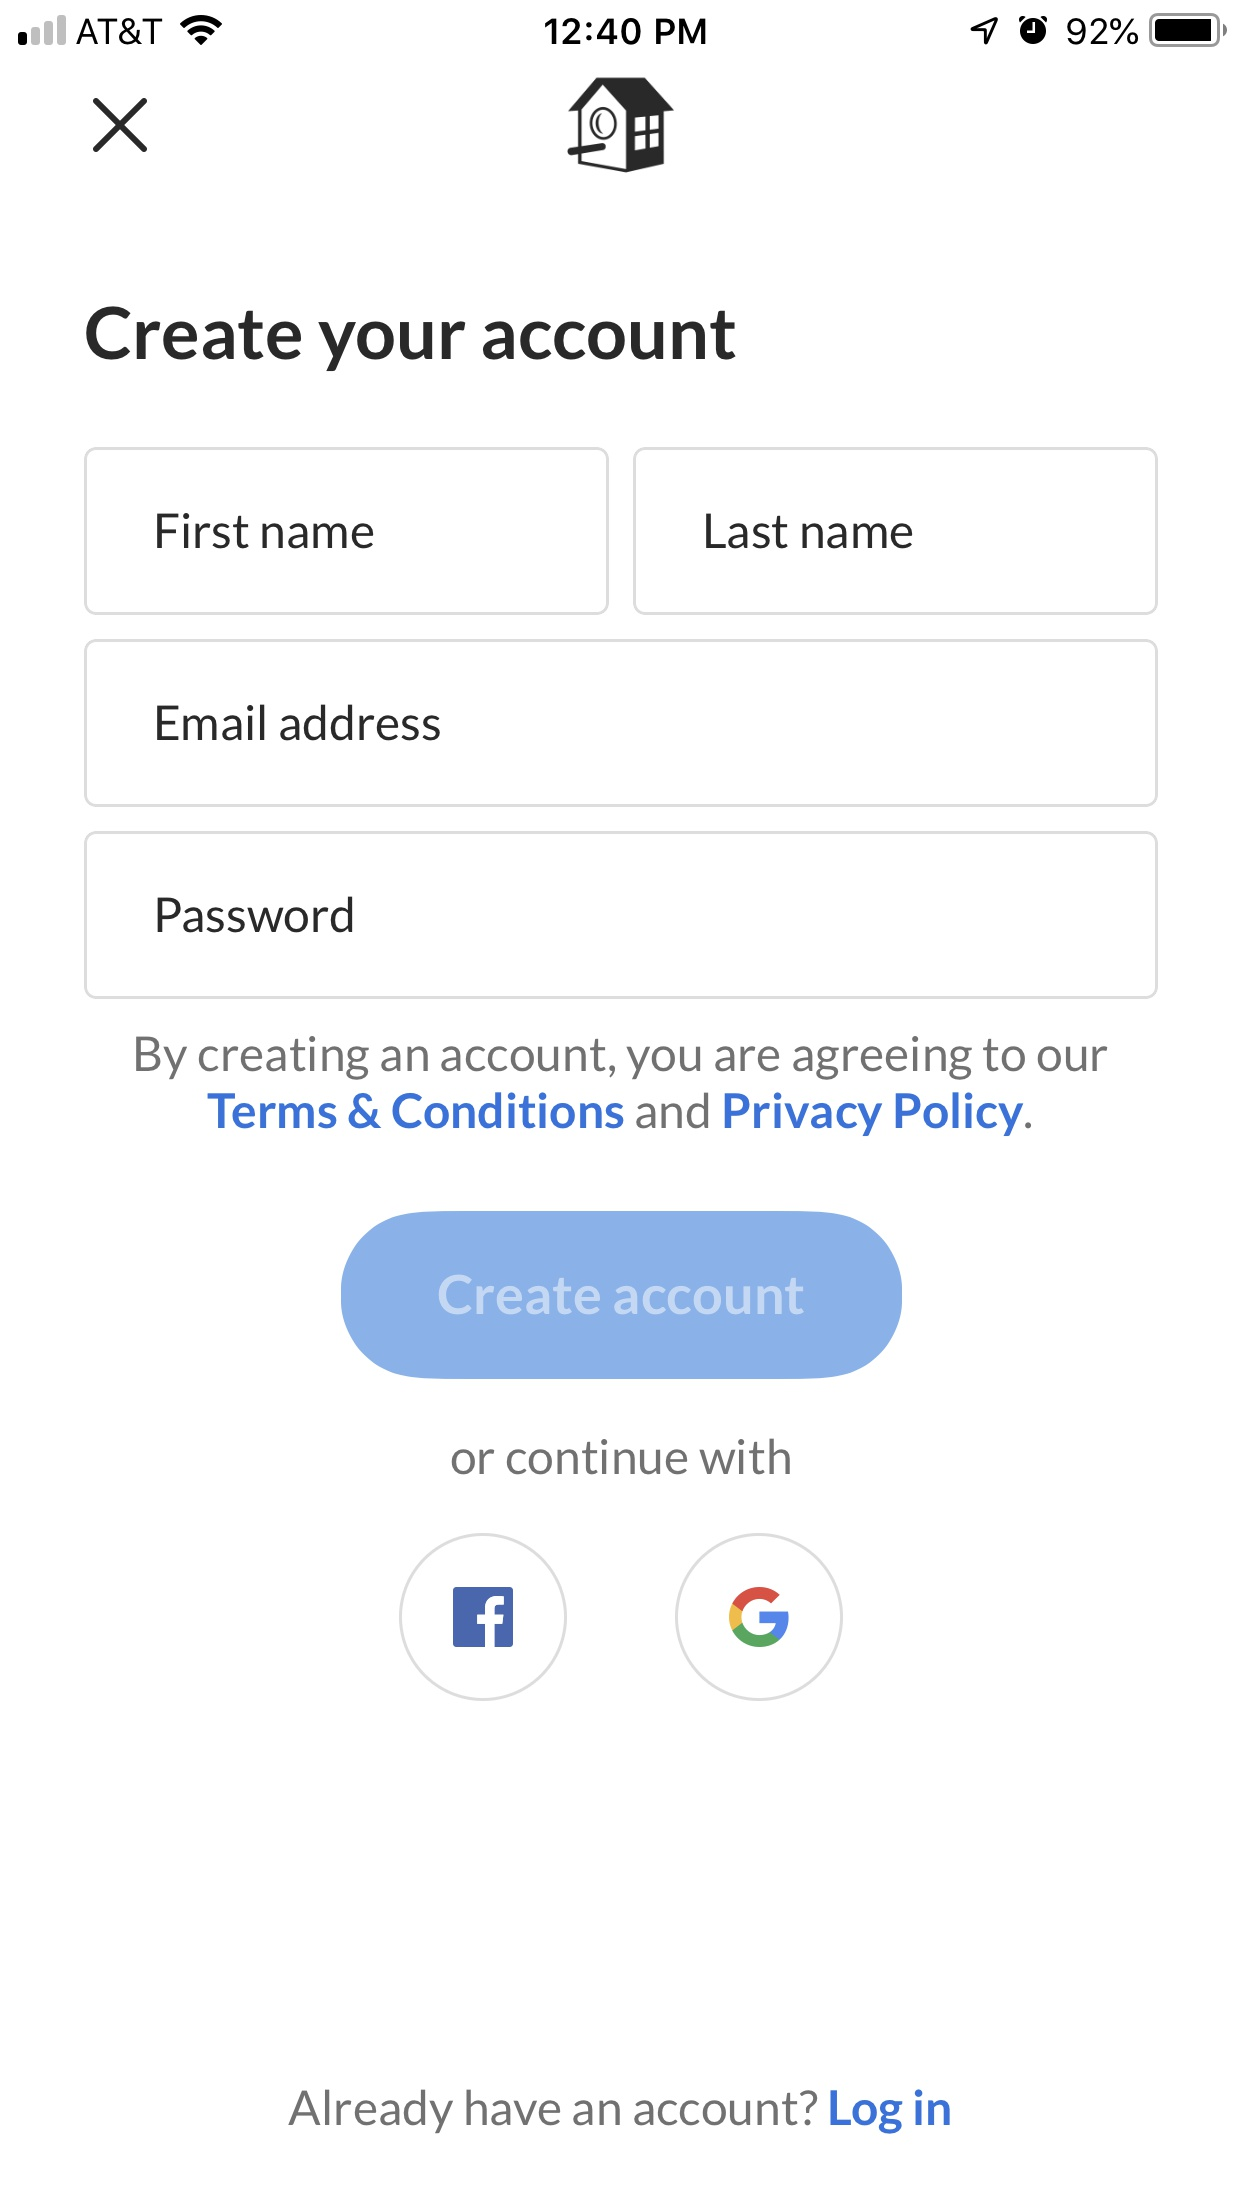EditText: (85, 638, 1159, 808), (85, 831, 1159, 999), (632, 447, 1159, 616), (83, 447, 610, 616)
Icon: (673, 1532, 845, 1701), (399, 1532, 569, 1701), (567, 77, 675, 174), (93, 99, 149, 155)
Text: (136, 1034, 1109, 1137), (86, 306, 737, 373), (288, 2090, 951, 2135), (450, 1438, 792, 1476), (158, 704, 441, 742), (158, 513, 375, 550), (705, 513, 913, 550), (158, 896, 353, 934)
TextButton: (341, 1210, 902, 1380)
UpperTaskBar: (2, 2, 1242, 49)
